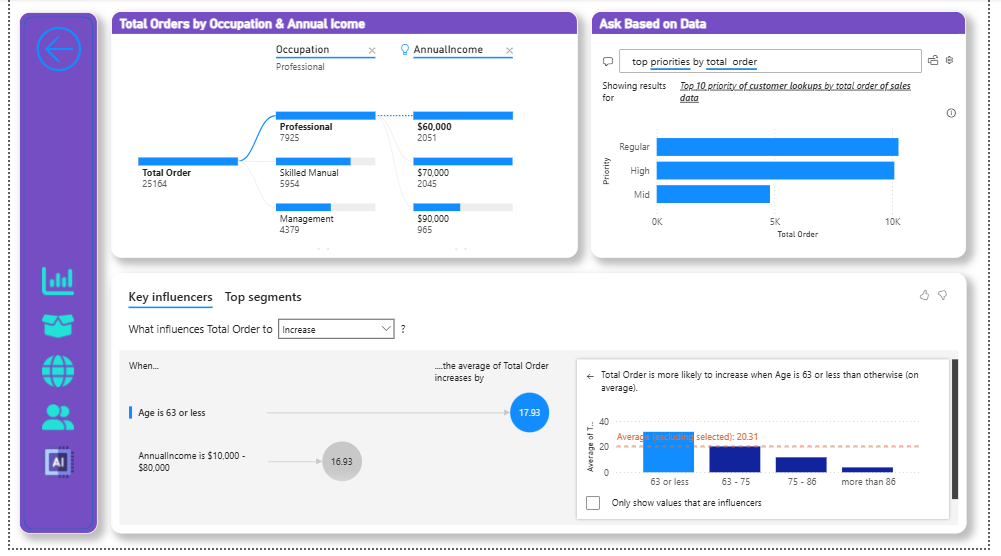

What the dashboard file says about the page in this screenshot:
{"tool":"powerbi","page":{"name":"AI Visual","canvas":[1280,720],"ordinal":5},"visuals":[{"type":"keyDriversVisual","fields":{"ExplainBy":["Customer Lookup.Age","Customer Lookup.AnnualIncome","Customer Lookup.EducationLevel"],"Target":["_Measures.Total  Order"]},"box":[132.2,360,1119.7,340.9],"z":0},{"type":"decompositionTreeVisual","title":"Total Orders by Occupation & Annual Icome","fields":{"Analyze":["_Measures.Total  Order"],"ExplainBy":["Customer Lookup.Occupation","Customer Lookup.AnnualIncome"]},"box":[132.2,17.6,611.3,323.3],"z":1000},{"type":"shape","box":[11.7,18.3,103.3,683.3],"z":1000,"group":"g1"},{"type":"qnaVisual","title":"Ask Based on Data","box":[761.1,17.6,490.8,323.3],"z":2000},{"type":"group","id":"g1","title":"Group 2","box":[11.7,18.3,103.3,683.3],"z":3000},{"type":"actionButton","box":[21.7,30,83.3,73.3],"z":4000},{"type":"actionButton","box":[25,345,75,50],"z":14000,"group":"g2"},{"type":"actionButton","box":[25,404.2,75,50],"z":15000,"group":"g2"},{"type":"actionButton","box":[25,463.3,75,50],"z":16000,"group":"g2"},{"type":"actionButton","box":[25,522.5,75,50],"z":17000,"group":"g2"},{"type":"actionButton","box":[25,581.7,75,50],"z":18000,"group":"g2"},{"type":"group","id":"g2","title":"Group 1","box":[25,345,75,286.7],"z":18001,"group":"g1"}]}

Visuals, with their boxes on the page's 1280x720 design canvas (x1, y1, x2, y2). These are canvas units, not pixel positions in the 1001x556 screenshot, which may show the page scaled, cropped or inside an application window:
keyDriversVisual - Customer Lookup.Age x Customer Lookup.AnnualIncome: 132:360:1252:701
"Total Orders by Occupation & Annual Icome" decompositionTreeVisual: 132:18:744:341
shape: 12:18:115:702
"Ask Based on Data" qnaVisual: 761:18:1252:341
"Group 2" group: 12:18:115:702
actionButton: 22:30:105:103
actionButton: 25:345:100:395
actionButton: 25:404:100:454
actionButton: 25:463:100:513
actionButton: 25:522:100:572
actionButton: 25:582:100:632
"Group 1" group: 25:345:100:632
